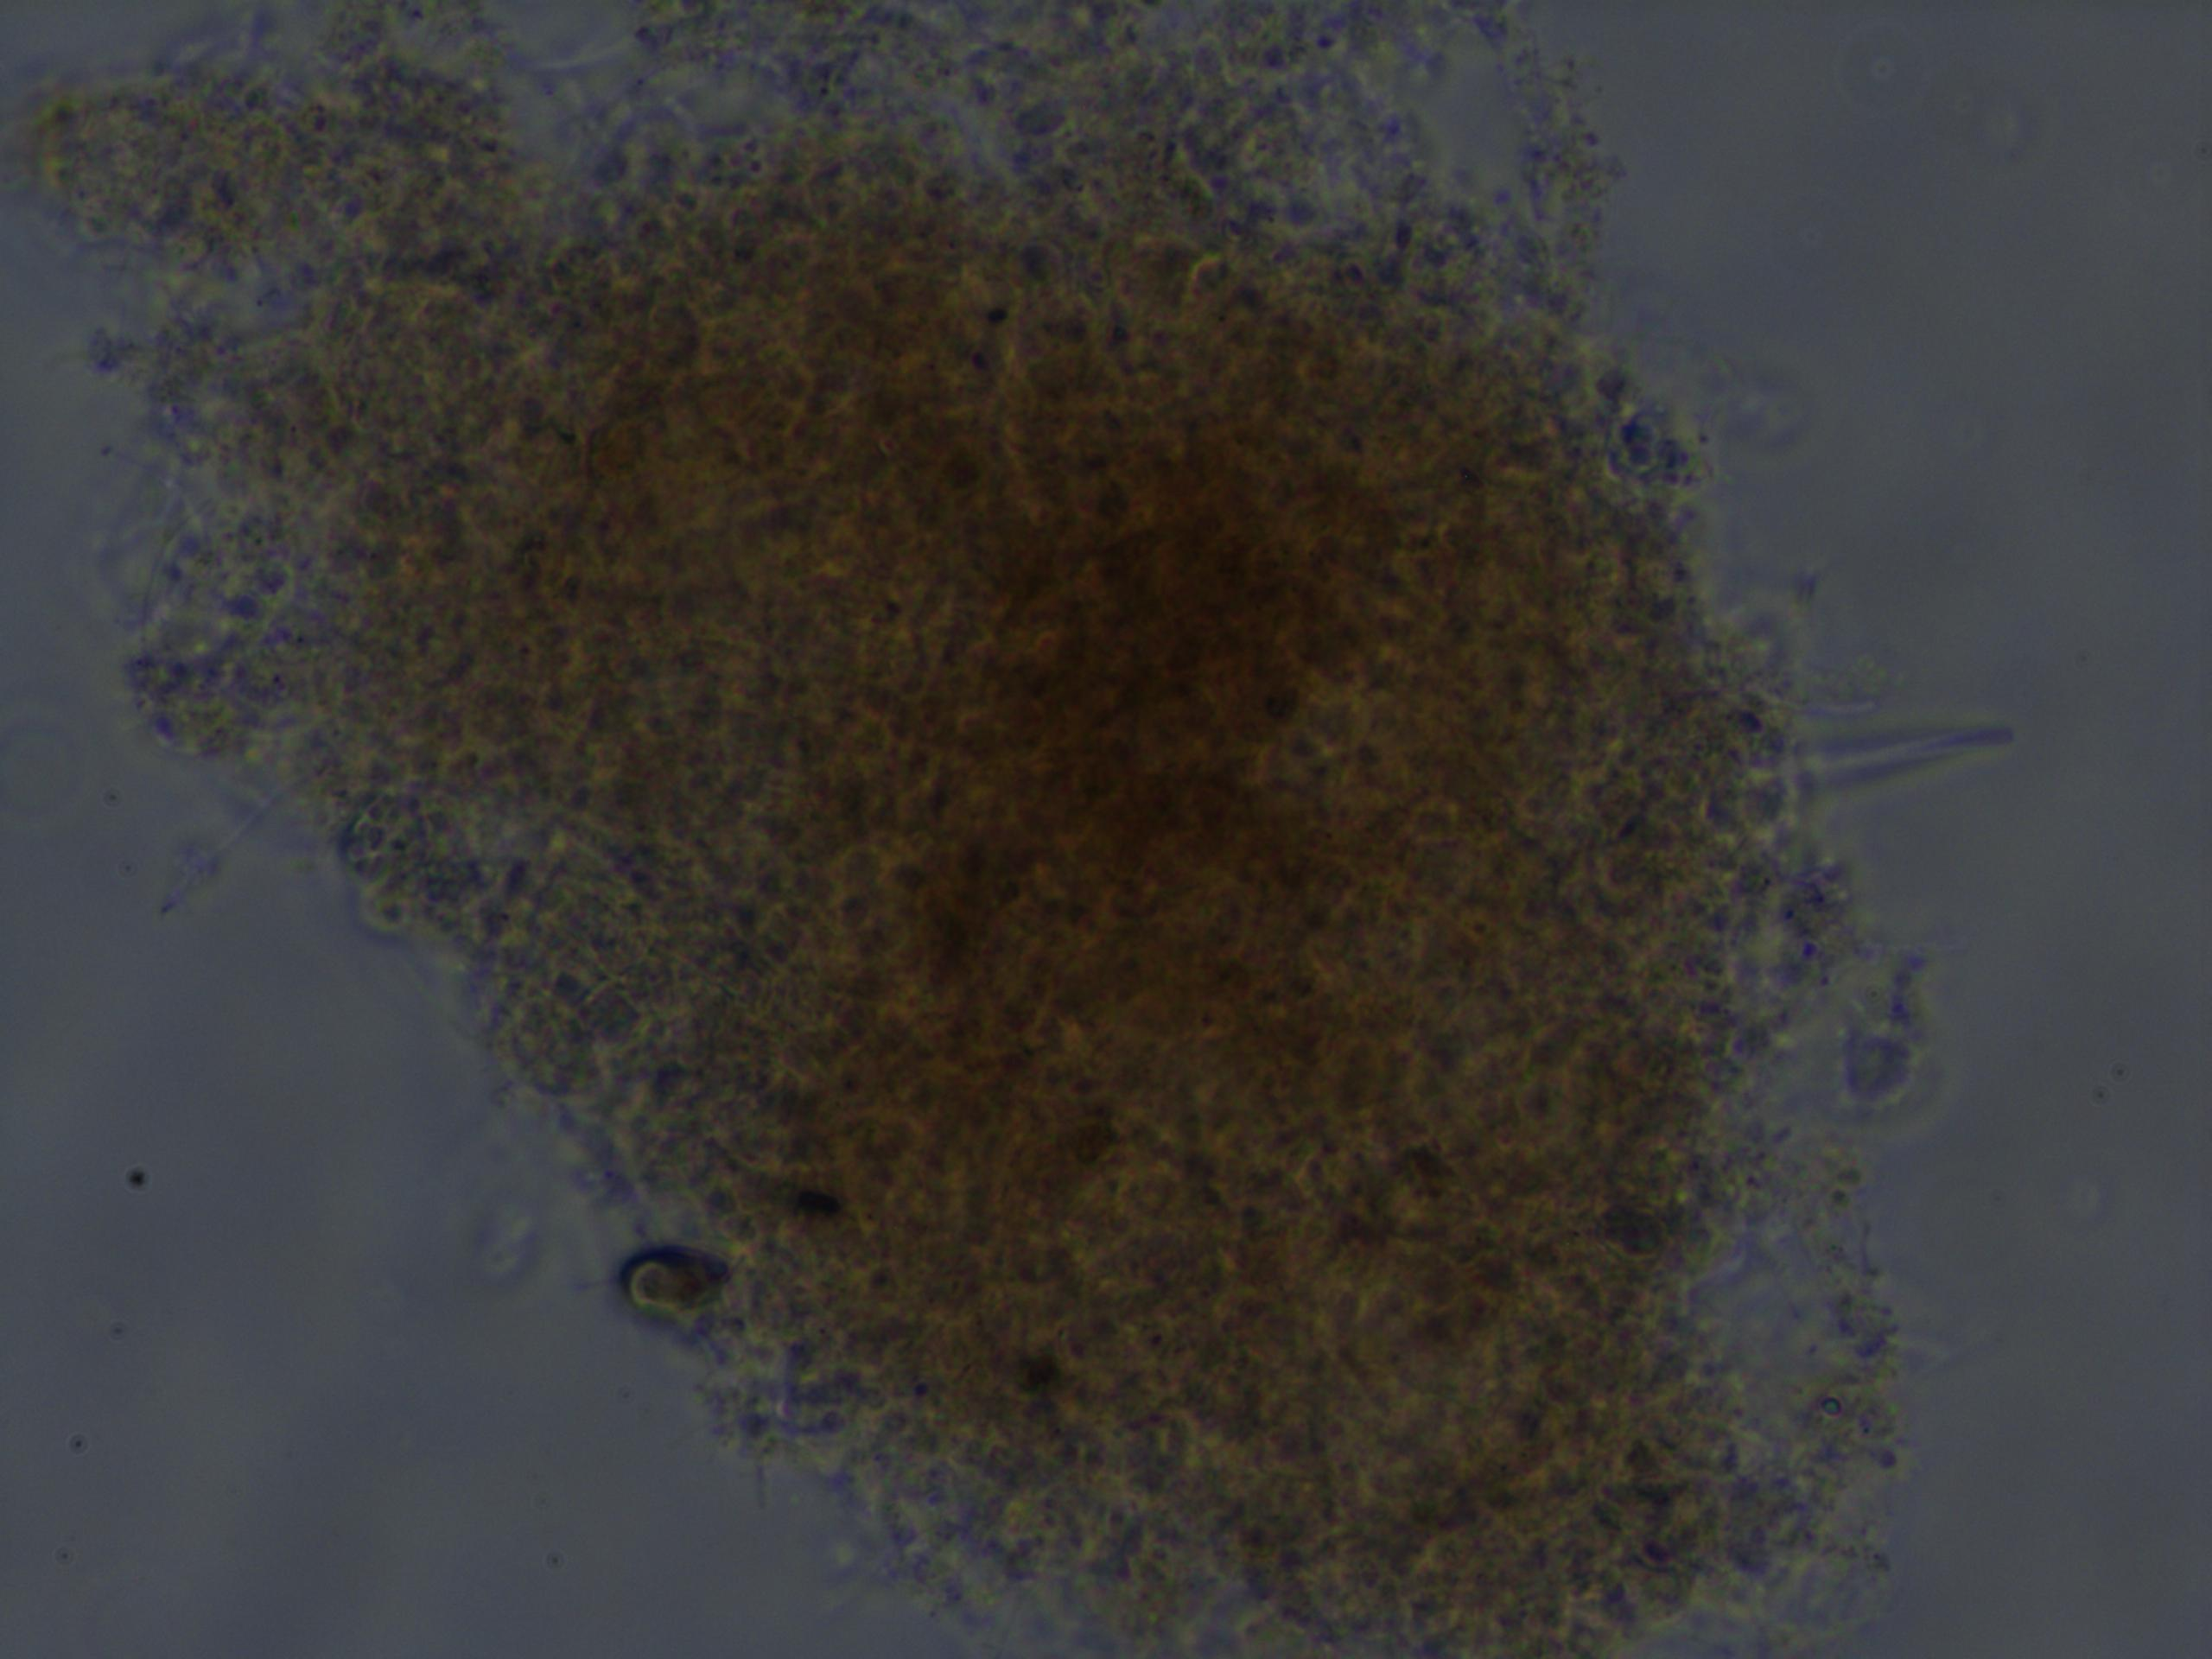spherical_floc: (42, 14, 1855, 1659)
